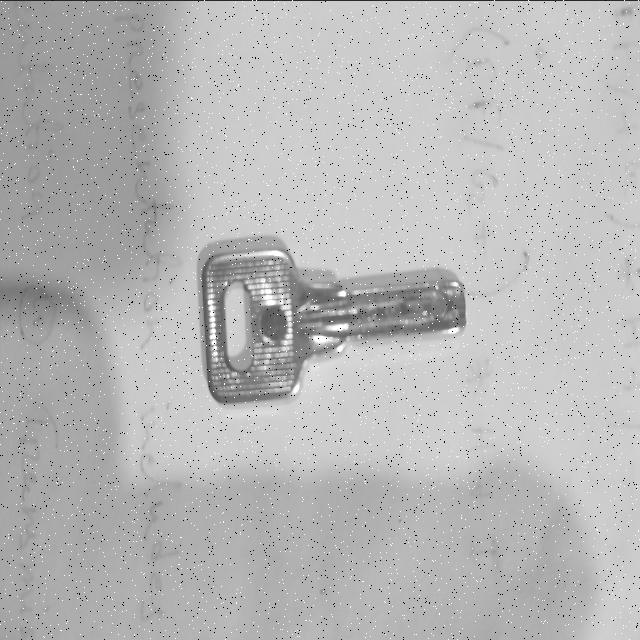key: (202, 249, 466, 402)
